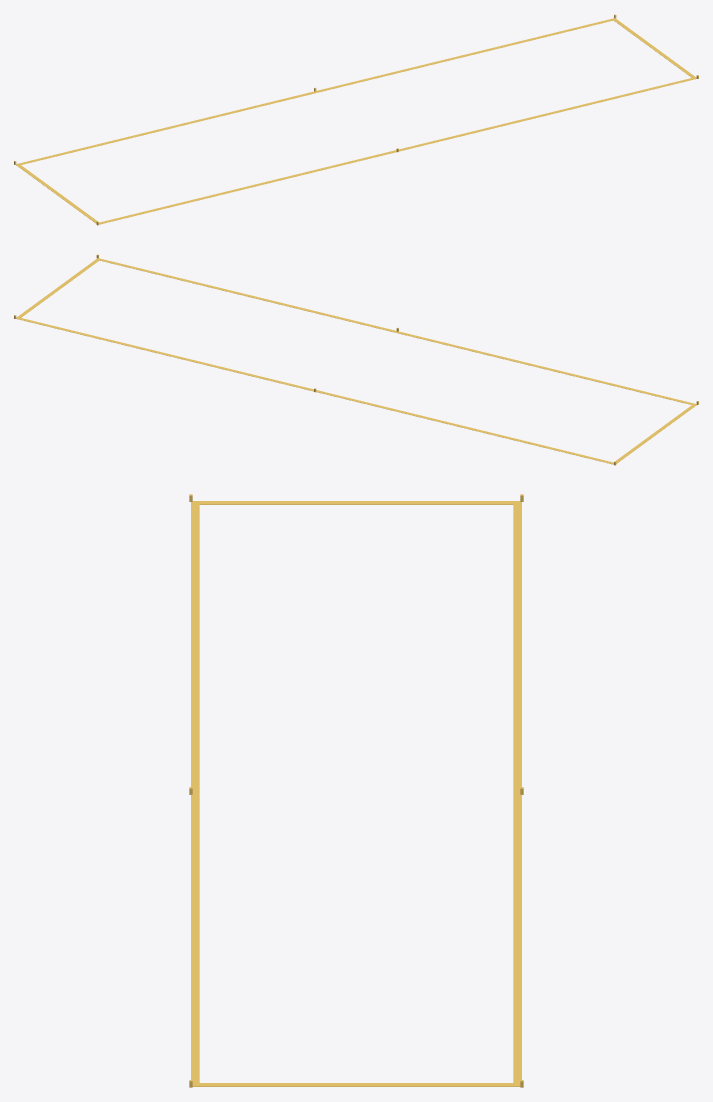
File: park-now-plateau-marker.glb
The picture shows the model from 3 angles, top to bottom: view 1: azimuth 30°, elevation 25°; view 2: azimuth 150°, elevation 25°; view 3: azimuth 270°, elevation 25°; orthographic projection. The views are drawn at different scales.
Visible parts, largest first — view 1: OutlineNorth, OutlineSouth, OutlineEast, OutlineWest; view 2: OutlineSouth, OutlineNorth, OutlineEast, OutlineWest; view 3: OutlineNorth, OutlineSouth, OutlineWest, OutlineEast.
Part boxes in pixels (box(x1,y1,x2,y2)): OutlineNorth: box(16, 18, 616, 165); OutlineSouth: box(99, 77, 696, 224); OutlineEast: box(612, 18, 696, 79); OutlineWest: box(16, 164, 100, 224); OutlineSouth: box(97, 258, 696, 405); OutlineNorth: box(16, 317, 616, 464); OutlineEast: box(16, 258, 100, 319); OutlineWest: box(612, 404, 696, 464); OutlineNorth: box(513, 501, 521, 1086); OutlineSouth: box(191, 501, 199, 1086); OutlineWest: box(191, 501, 521, 504); OutlineEast: box(194, 1083, 517, 1086).
Size of the model in its own units: 491 by 2.5 by 118.
